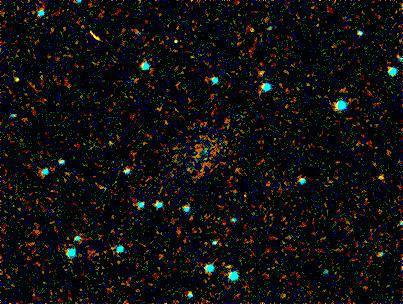star: (366, 165, 396, 195)
